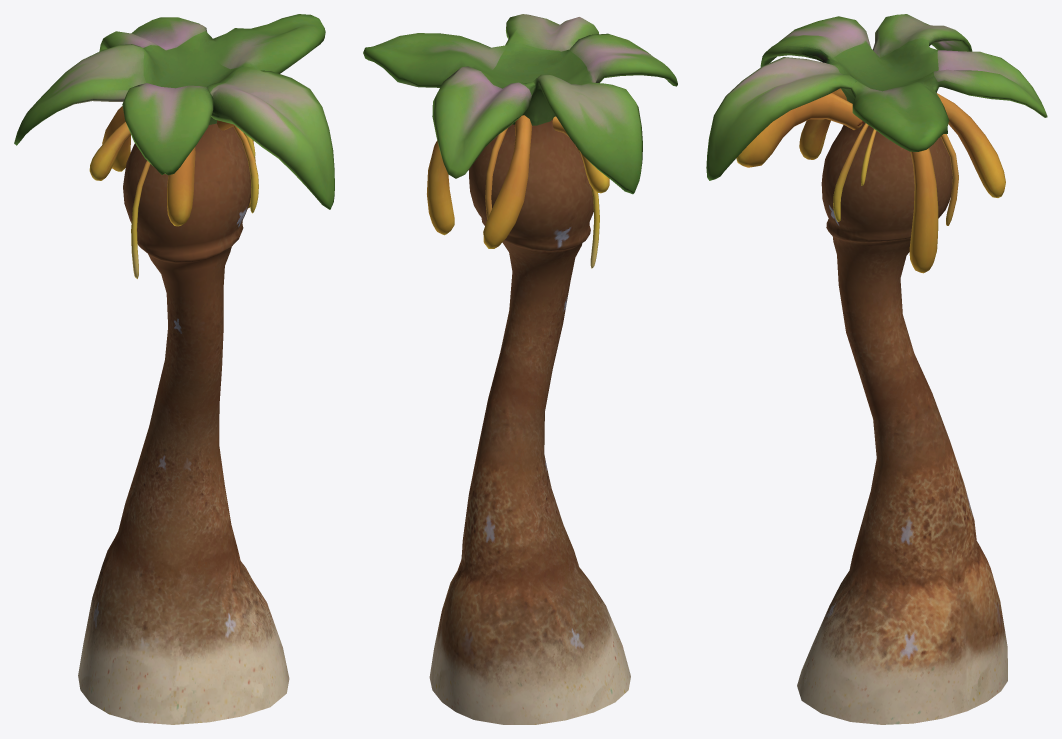
File: Tree.fbx
3 views of the same model, side by side, from view 1: azimuth 30°, elevation 25°; view 2: azimuth 150°, elevation 25°; view 3: azimuth 270°, elevation 25° (orthographic).
Parts seen in each view (by area): view 1: SM_JF_Bounce_Tree_01; view 2: SM_JF_Bounce_Tree_01; view 3: SM_JF_Bounce_Tree_01.
Part boxes in pixels (bbox=[...]): SM_JF_Bounce_Tree_01: bbox=[14, 14, 334, 724]; SM_JF_Bounce_Tree_01: bbox=[363, 14, 677, 724]; SM_JF_Bounce_Tree_01: bbox=[706, 14, 1047, 724].
Bounding box in the file's own units: 467 × 967 × 473.
